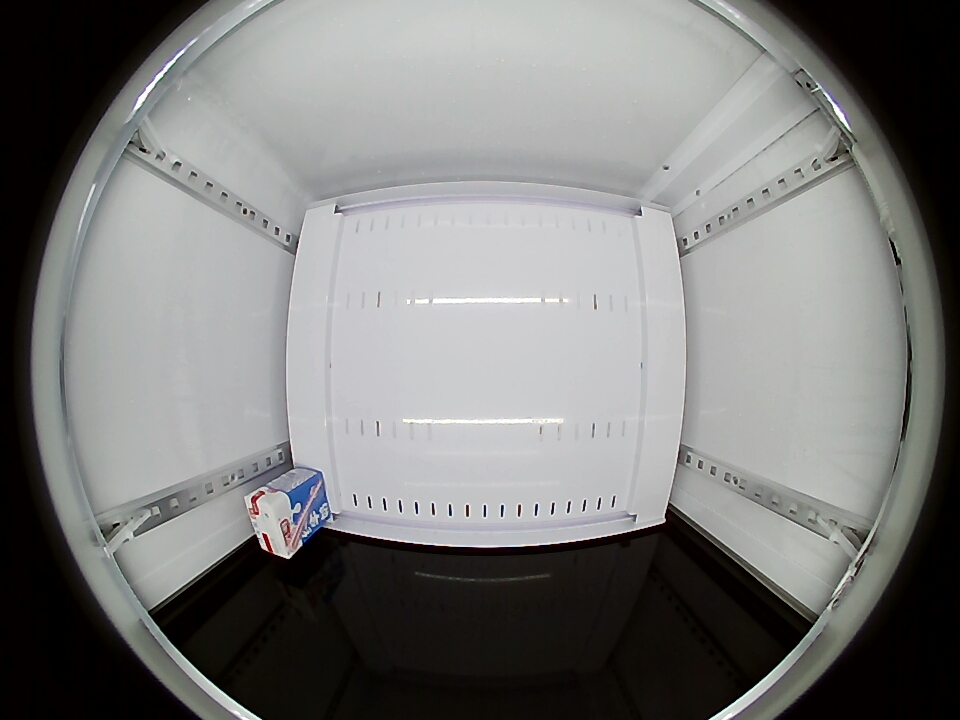niunai: (244, 484, 305, 560)
